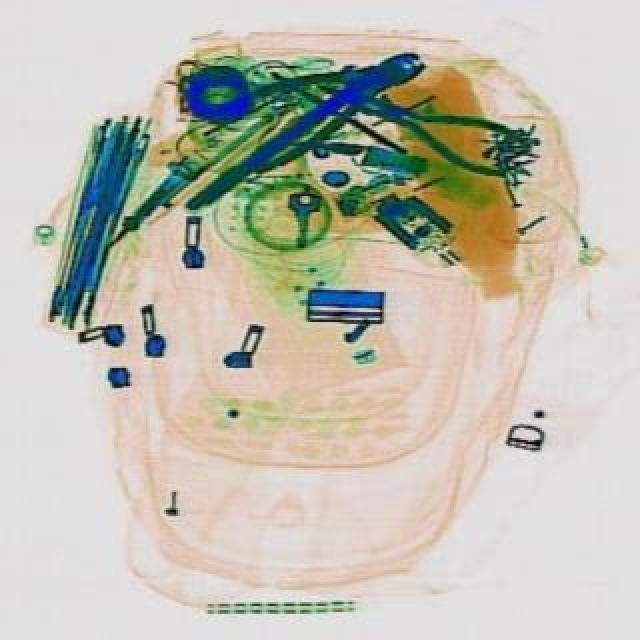wrench: (216, 22, 436, 176), (306, 60, 530, 184)
